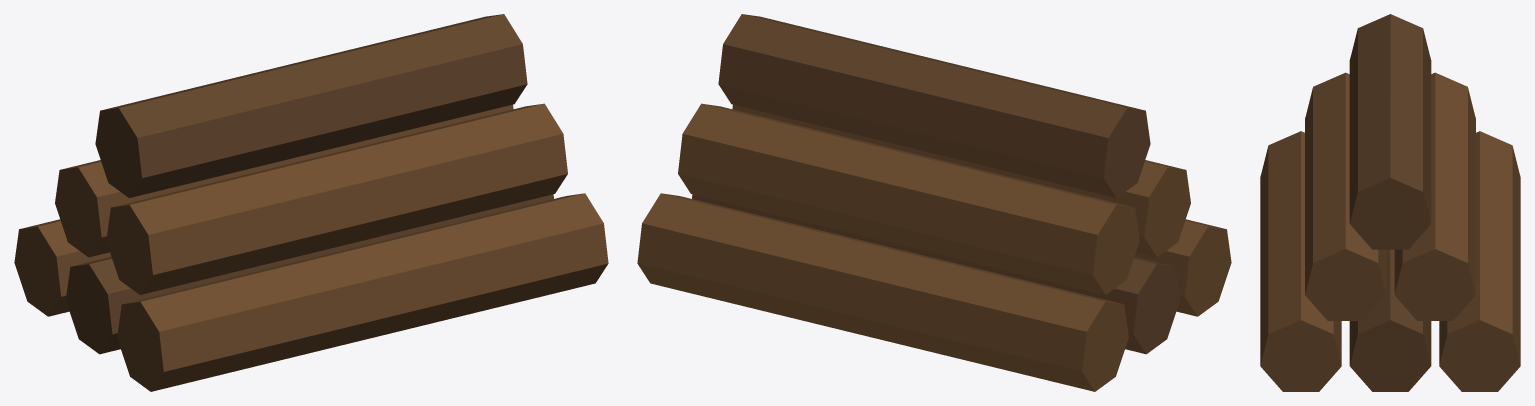
Rendered from log_pile.glb.
The picture shows the model from 3 angles, left to right: view 1: azimuth 30°, elevation 25°; view 2: azimuth 150°, elevation 25°; view 3: azimuth 270°, elevation 25°; orthographic projection. The views are drawn at different scales.
Parts seen in each view (by area): view 1: log_pile; view 2: log_pile; view 3: log_pile.
Part boxes in pixels (x1,y1,x2,y2): log_pile: (14, 14, 608, 391); log_pile: (637, 14, 1231, 391); log_pile: (1260, 14, 1520, 391).
Bounding box in the file's own units: 3 × 1.49 × 1.75.
